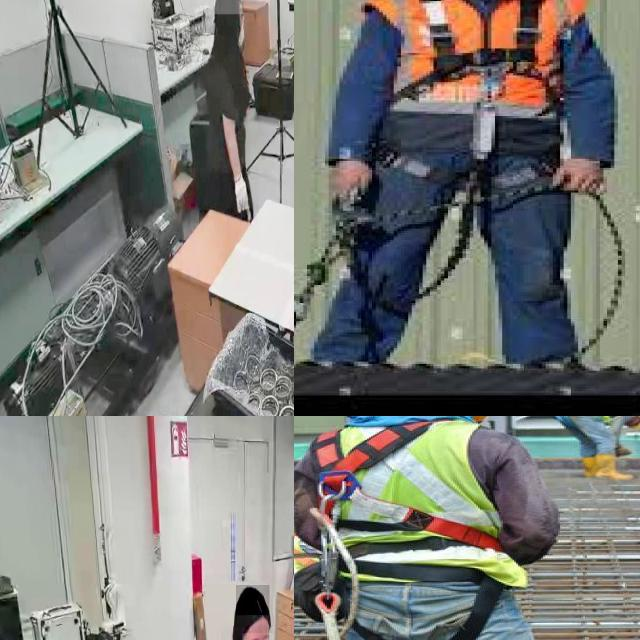Harness: (360, 0, 587, 278), (294, 423, 528, 640), (549, 416, 627, 431)
hand_glove: (233, 175, 251, 219)
head_nohelmet: (236, 585, 270, 616), (214, 0, 243, 15)
person: (207, 0, 255, 238)
